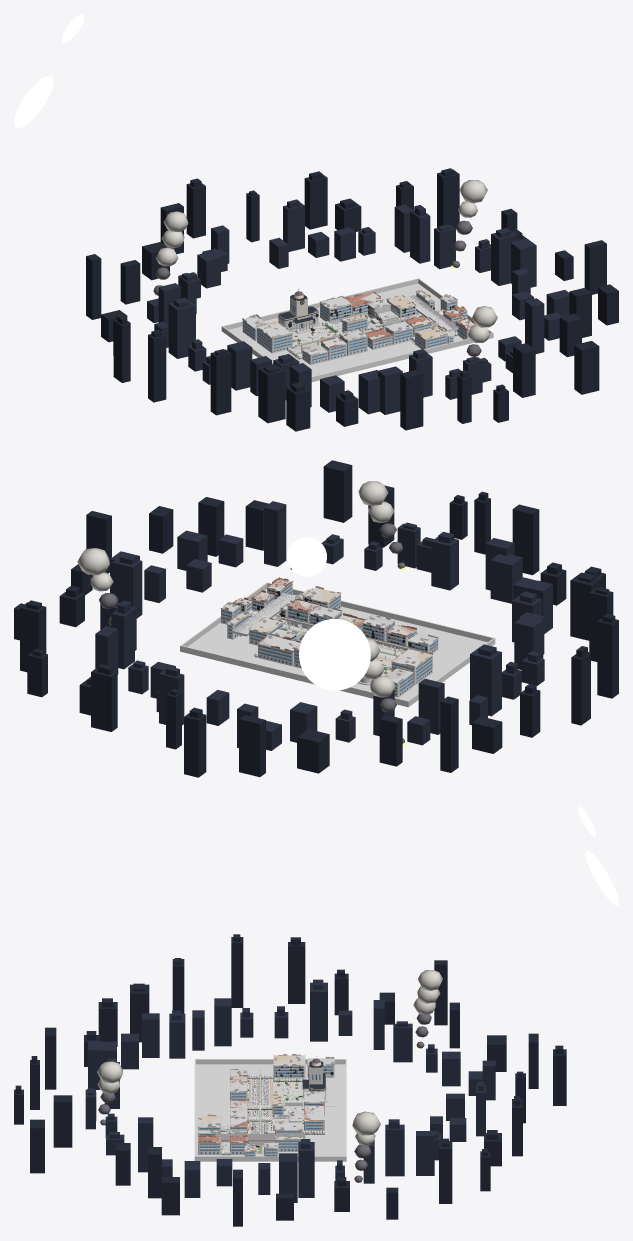
Rendered from m4_ruins.glb.
The picture shows the model from 3 angles, top to bottom: view 1: azimuth 30°, elevation 25°; view 2: azimuth 150°, elevation 25°; view 3: azimuth 270°, elevation 25°; orthographic projection. The views are drawn at different scales.
Parts seen in each view (by area): view 1: skyline_far_n2_far, skyline_far_n_far, COL_ground_001, skyline_smoke_l, skyline_moon_fine, COL_bounds_004, COL_west_c053, skyline_smoke_d, COL_bounds_005, COL_alley_c098; view 2: skyline_far_n2_far, skyline_far_n_far, skyline_moon_fine, COL_ground_001, skyline_smoke_l, COL_bounds_005, COL_bounds_004, skyline_smoke_d, COL_alley_c108, COL_west_c053, south_concrete, underpass_concrete_d_detail (+2 smaller); view 3: skyline_far_n_far, skyline_far_n2_far, COL_ground_001, skyline_smoke_l, skyline_smoke_d, skyline_moon_fine, COL_avenue_175, COL_bounds_003, COL_west_c053.
Boxes of the visible parts, x1=… form: skyline_far_n2_far: x1=86, y1=168, x2=618, y2=431; skyline_far_n_far: x1=147, y1=199, x2=569, y2=414; COL_ground_001: x1=223, y1=283, x2=492, y2=381; skyline_smoke_l: x1=156, y1=180, x2=497, y2=343; skyline_moon_fine: x1=14, y1=14, x2=83, y2=127; COL_bounds_004: x1=311, y1=332, x2=492, y2=382; COL_west_c053: x1=257, y1=322, x2=292, y2=353; skyline_smoke_d: x1=153, y1=220, x2=481, y2=356; COL_bounds_005: x1=221, y1=278, x2=418, y2=331; COL_alley_c098: x1=320, y1=297, x2=352, y2=323; skyline_far_n2_far: x1=14, y1=460, x2=618, y2=777; skyline_far_n_far: x1=95, y1=501, x2=552, y2=750; skyline_moon_fine: x1=287, y1=537, x2=370, y2=690; COL_ground_001: x1=188, y1=589, x2=492, y2=706; skyline_smoke_l: x1=77, y1=481, x2=395, y2=697; COL_bounds_005: x1=180, y1=645, x2=409, y2=706; COL_bounds_004: x1=266, y1=582, x2=493, y2=641; skyline_smoke_d: x1=99, y1=523, x2=405, y2=743; COL_alley_c108: x1=258, y1=635, x2=300, y2=665; COL_west_c053: x1=391, y1=649, x2=432, y2=684; south_concrete: x1=280, y1=600, x2=438, y2=645; underpass_concrete_d_detail: x1=221, y1=593, x2=295, y2=635; skyline_far_n_far: x1=85, y1=979, x2=495, y2=1202; skyline_far_n2_far: x1=14, y1=934, x2=566, y2=1226; COL_ground_001: x1=196, y1=1064, x2=345, y2=1156; skyline_smoke_l: x1=97, y1=970, x2=442, y2=1145; skyline_smoke_d: x1=98, y1=1014, x2=431, y2=1182; skyline_moon_fine: x1=577, y1=806, x2=618, y2=905; COL_avenue_175: x1=252, y1=1079, x2=268, y2=1153; COL_bounds_003: x1=194, y1=1156, x2=346, y2=1161; COL_west_c053: x1=273, y1=1055, x2=305, y2=1078.
Size of the model in its own units: 441 by 220 by 497.
